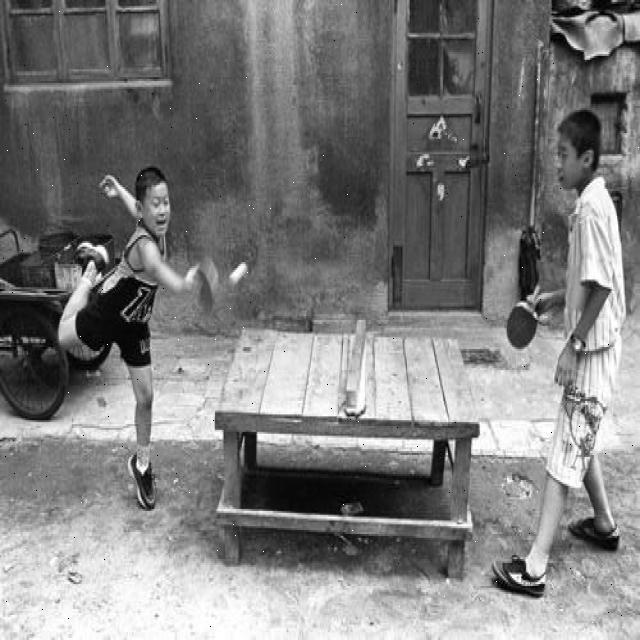ping-pong-ball: (229, 260, 249, 286)
